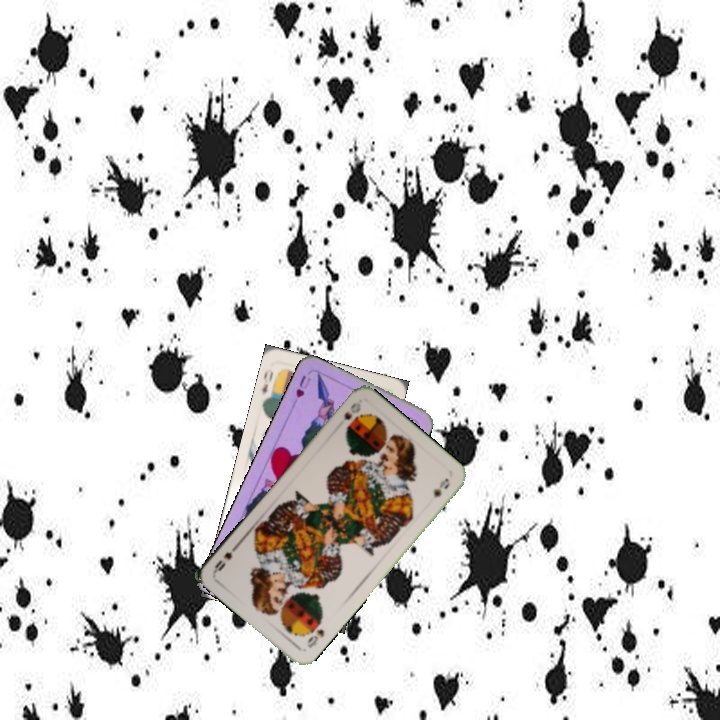EO: (258, 367, 279, 402)
HU: (292, 371, 313, 400)
SO: (303, 617, 327, 651), (340, 398, 364, 423)
